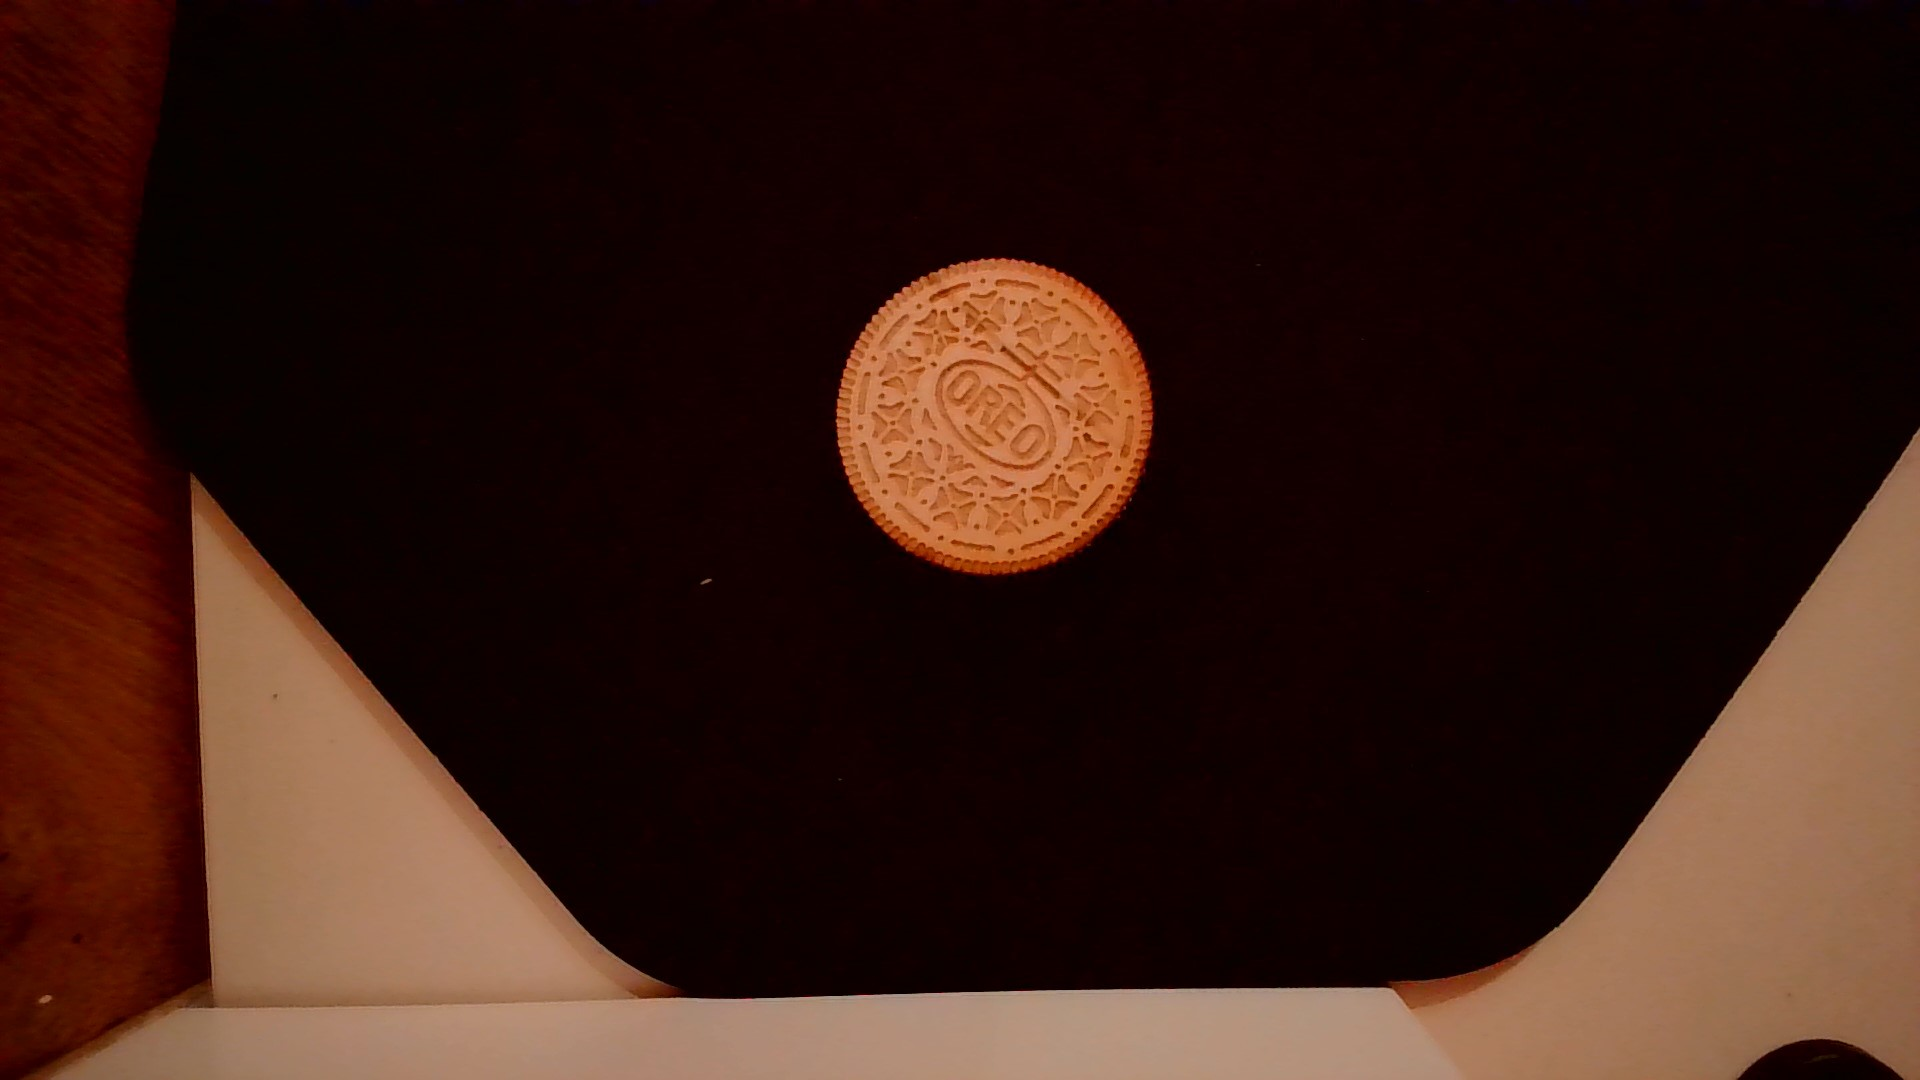Oréo: (827, 249, 1164, 579)
